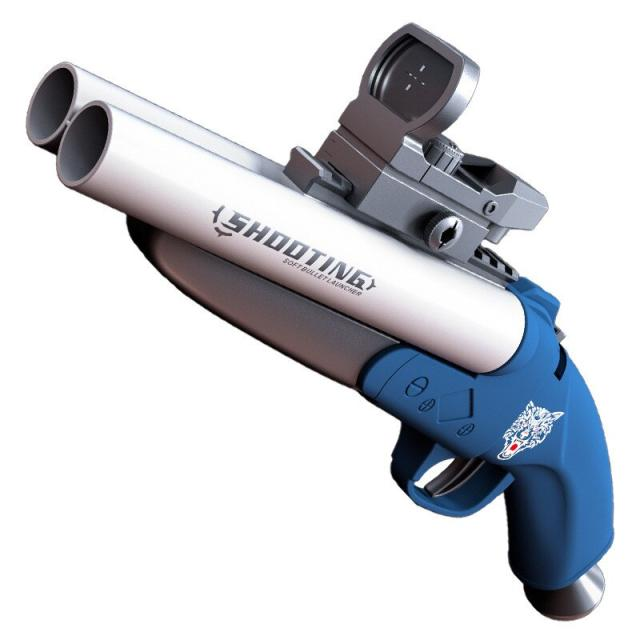ShotGun: (25, 23, 617, 624)
